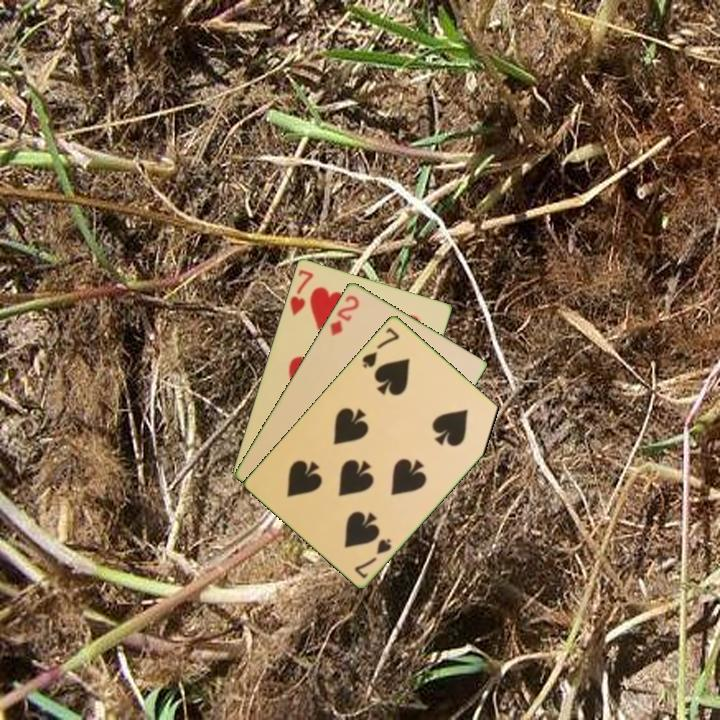2d: (326, 291, 362, 338)
7h: (286, 265, 316, 318)
7s: (358, 323, 402, 371), (351, 534, 394, 581)
